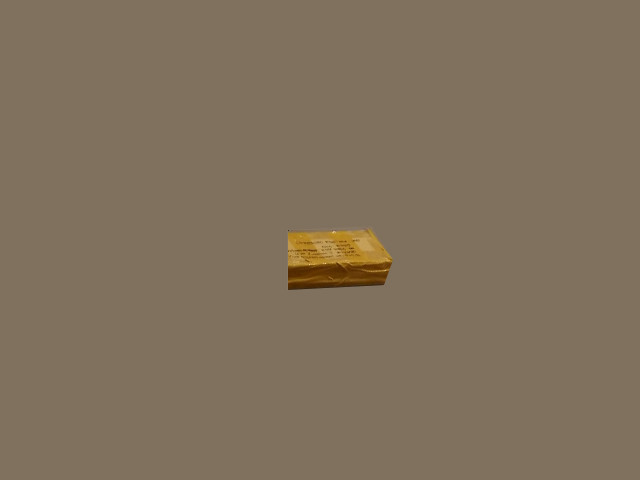cardboard: (288, 233, 390, 288)
